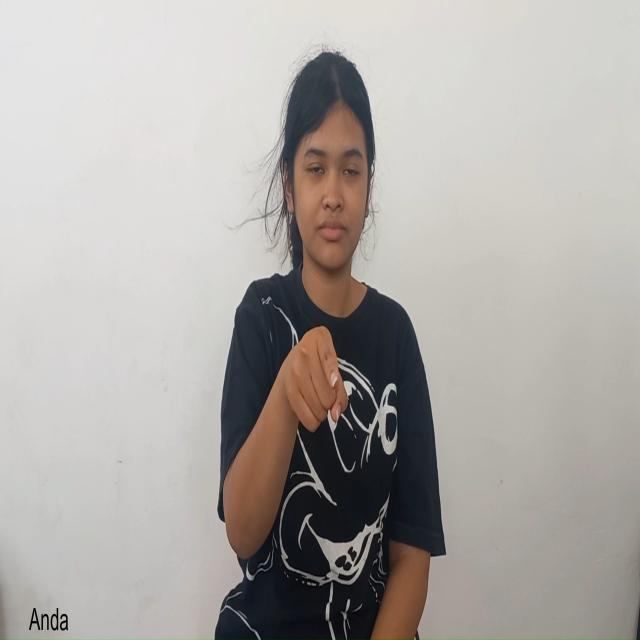Anda -BISINDO-: (238, 271, 399, 517)
